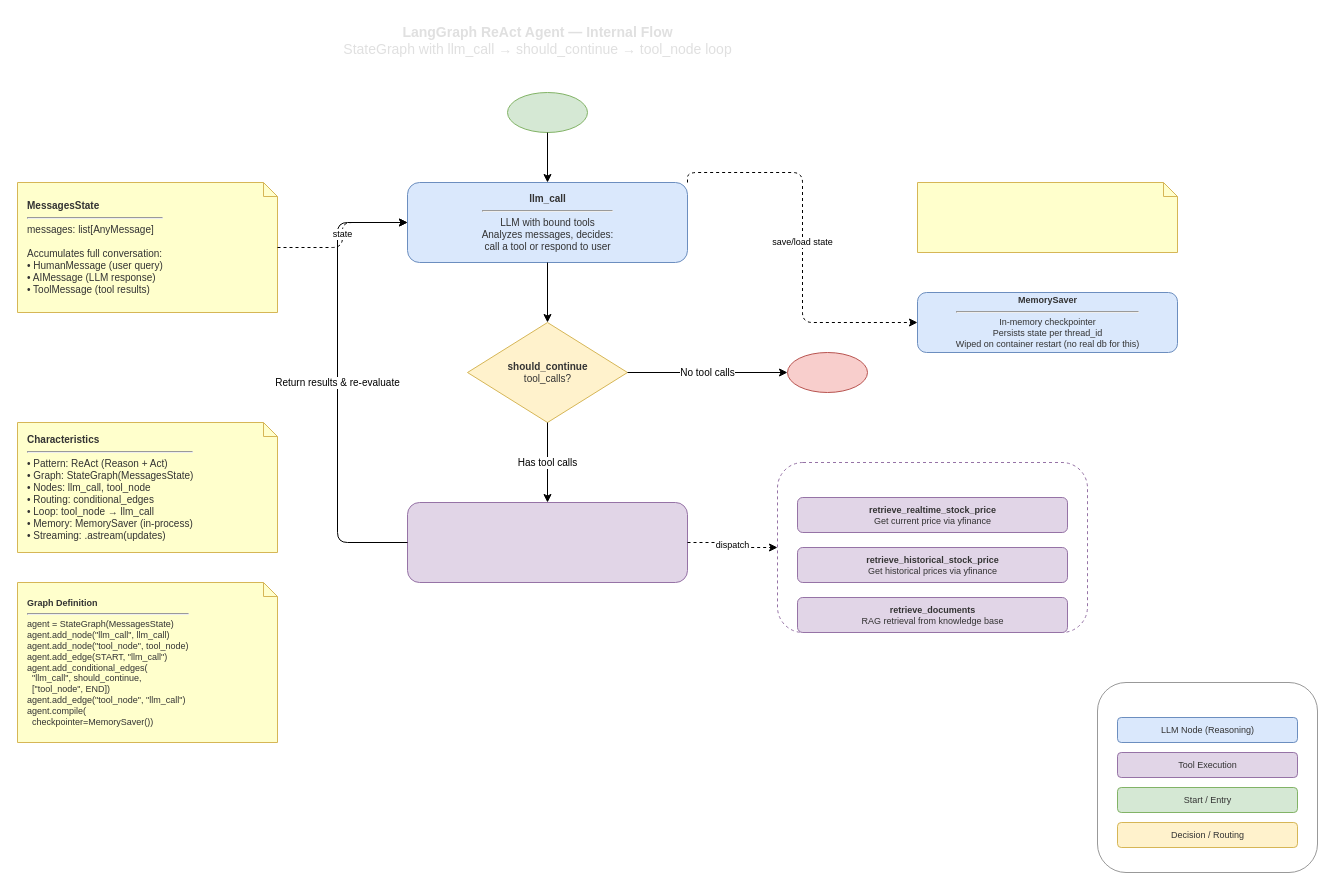
Some shapes in this 1335 by 890 pixel diagram are drawn without their labels. Here are the shapes that lost their labels. From the top down, the box of each, then its label:
(506, 92, 588, 132): START
(916, 182, 1178, 252): Streaming .astream(stream_mode="updates") SSE events emitted at each node
(786, 352, 868, 392): END
(406, 502, 688, 582): tool_node Execute tool calls from LLM Return ToolMessage results
(776, 462, 1088, 632): Available Tools (bound to LLM)
(1096, 682, 1318, 872): Legend
